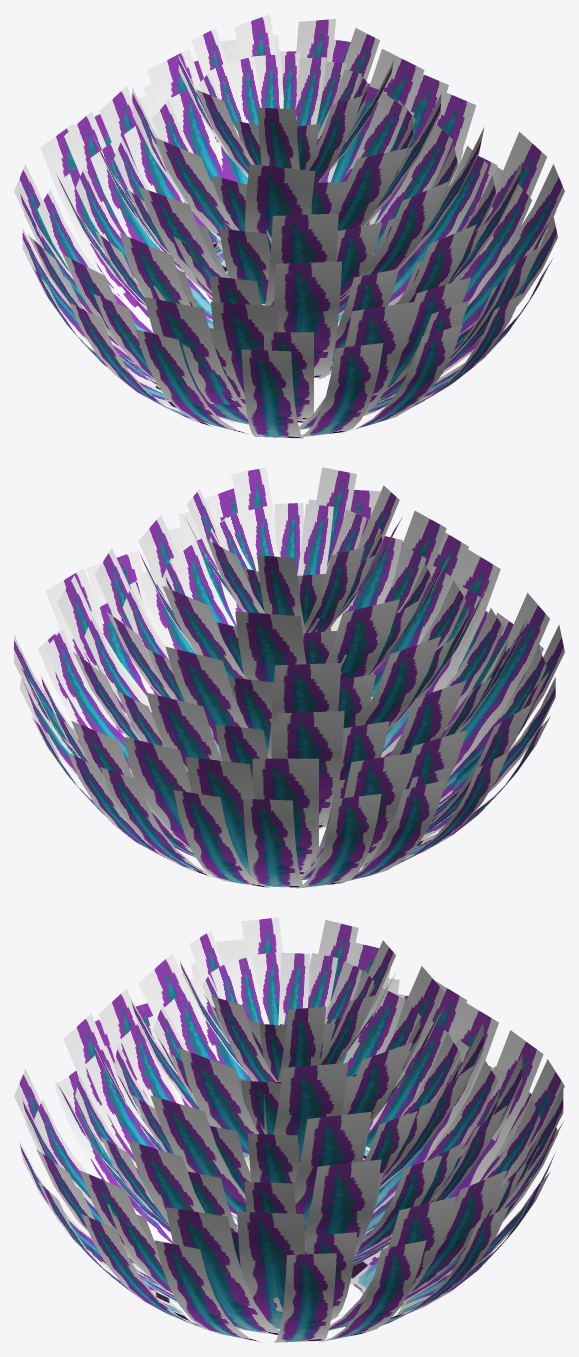
File: GlowingPlant.FBX
3 renders of one model, top to bottom at view 1: azimuth 30°, elevation 25°; view 2: azimuth 150°, elevation 25°; view 3: azimuth 270°, elevation 25°, orthographic.
Visible parts, largest first — view 1: Plane123; view 2: Plane123; view 3: Plane123.
Boxes of the visible parts, <box> form: Plane123: <box>14,14,564,438</box>; Plane123: <box>14,467,564,888</box>; Plane123: <box>14,917,564,1342</box>.
Size of the model in its own units: 38.89 by 26.51 by 38.92.
